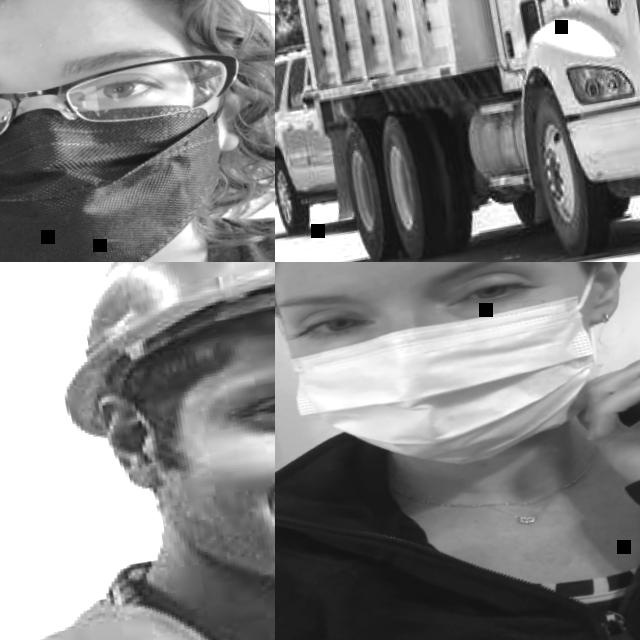Hardhat: (36, 262, 275, 445)
Mask: (275, 262, 611, 478), (0, 84, 255, 262)
NO-Hardhat: (0, 0, 235, 90)
NO-Mask: (123, 400, 275, 620)
NO-Safety Vest: (275, 411, 640, 640), (0, 202, 275, 262)
Person: (275, 262, 640, 640), (0, 262, 275, 640), (0, 0, 275, 262)
Safety Vest: (0, 522, 275, 640)
machinery: (275, 0, 640, 262)
vehicle: (275, 38, 346, 240)
